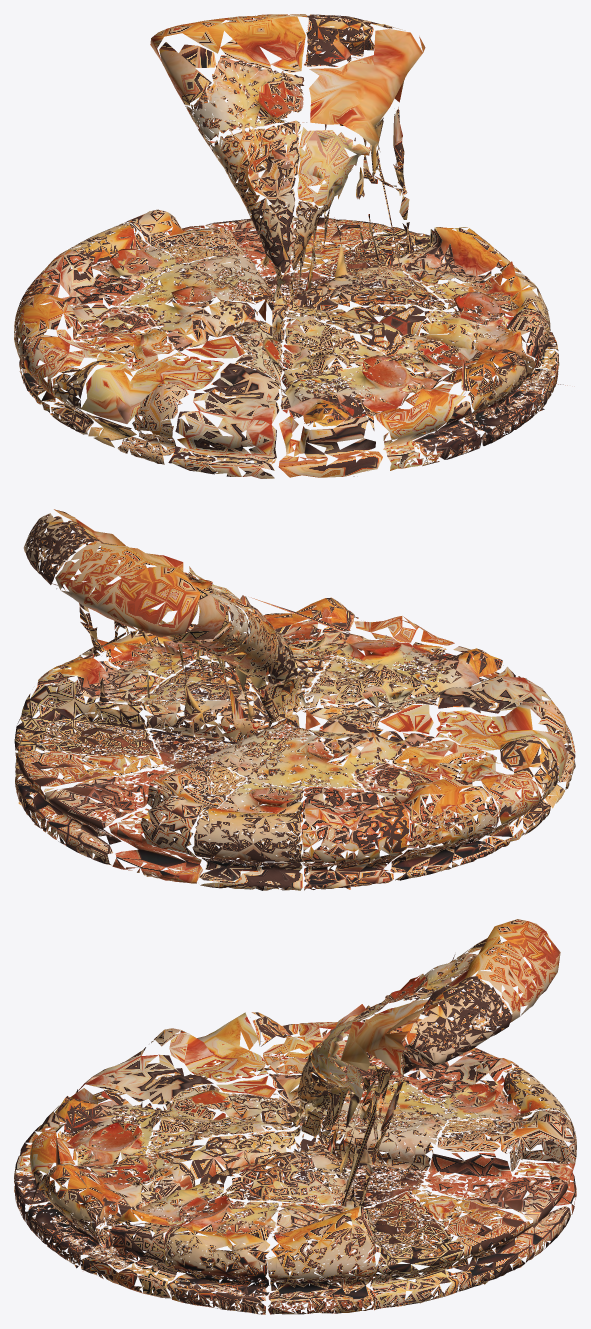
The model's file is menuAR-pizza-familia-40x40x22cm-mobile.glb.
3 views of the same model, one above another, from view 1: azimuth 30°, elevation 25°; view 2: azimuth 150°, elevation 25°; view 3: azimuth 270°, elevation 25° (orthographic). The views are drawn at different scales.
Parts seen in each view (by area): view 1: PizzaFamilia; view 2: PizzaFamilia; view 3: PizzaFamilia.
Part boxes in pixels (box(x1,y1,x2,y2)): PizzaFamilia: box(14, 14, 567, 478); PizzaFamilia: box(14, 509, 575, 890); PizzaFamilia: box(14, 919, 576, 1314).
Bounding box in the file's own units: 0.4 × 0.22 × 0.4.
Materials: 1 (1 with a texture image).
